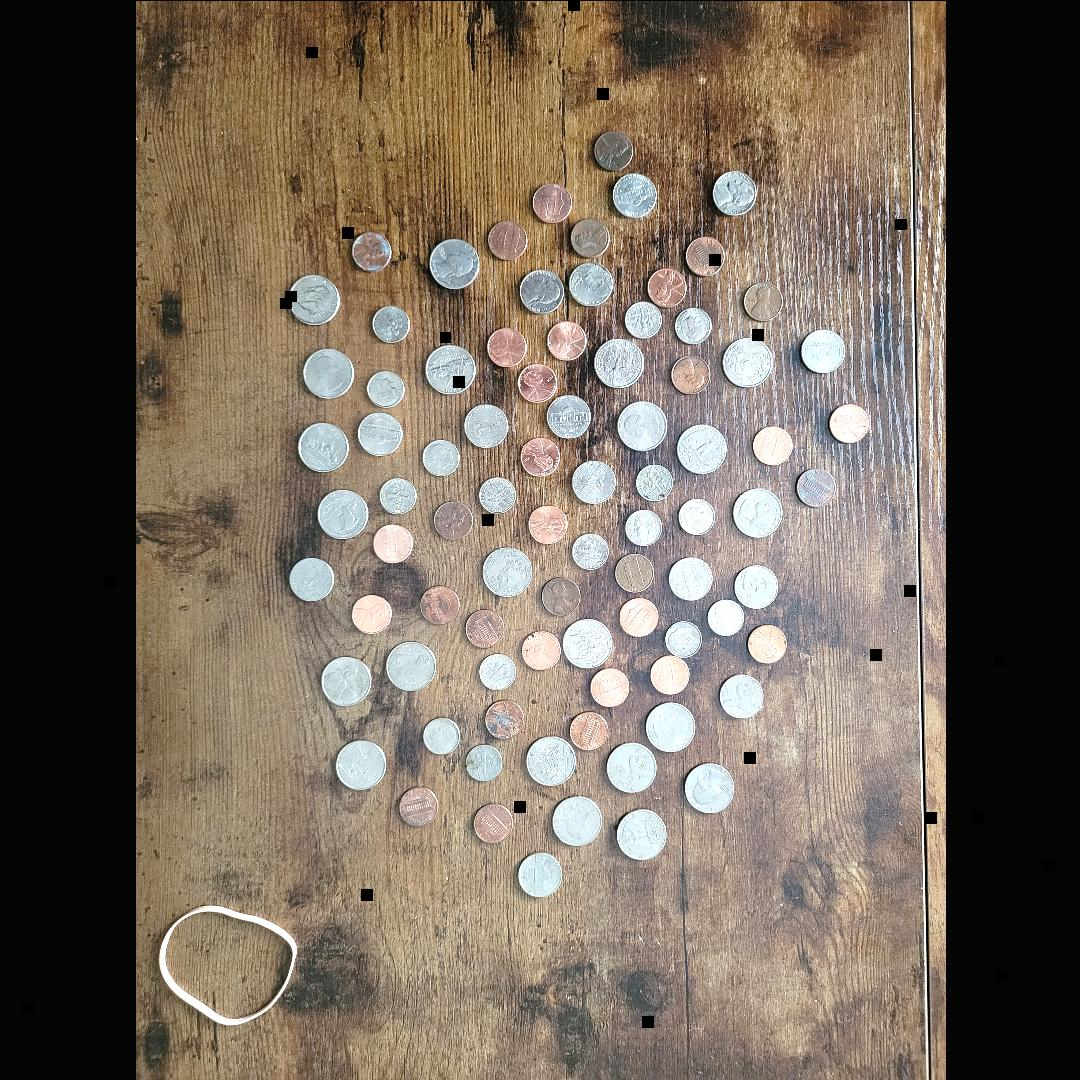Dime: (420, 438, 458, 476), (379, 478, 417, 516), (365, 368, 403, 406), (634, 464, 672, 502), (676, 497, 714, 535), (673, 307, 711, 345), (464, 740, 500, 780), (479, 653, 516, 691), (479, 476, 516, 514), (370, 305, 410, 340), (706, 600, 744, 636), (422, 716, 458, 754), (572, 532, 608, 570), (625, 301, 661, 338), (666, 619, 702, 655), (624, 510, 660, 544)
Nickel: (516, 851, 562, 897), (800, 326, 844, 374), (569, 459, 615, 503), (717, 673, 763, 717), (710, 170, 756, 214), (357, 412, 403, 456), (463, 404, 507, 448), (612, 173, 656, 217), (567, 263, 611, 307), (545, 396, 590, 439), (516, 269, 562, 311), (288, 558, 332, 600), (734, 565, 778, 607), (669, 557, 710, 599)
Penny: (828, 403, 870, 445), (644, 264, 686, 306), (681, 235, 724, 275), (350, 232, 392, 272), (591, 130, 633, 170), (474, 801, 514, 843), (372, 524, 413, 564), (545, 317, 585, 358), (530, 182, 572, 221), (750, 426, 793, 464), (351, 594, 391, 634), (486, 217, 526, 257), (618, 597, 658, 637), (588, 666, 628, 706), (485, 324, 525, 364), (614, 552, 654, 592), (648, 654, 688, 694), (519, 362, 559, 402), (521, 631, 561, 671), (742, 281, 782, 321), (747, 622, 786, 662), (570, 215, 610, 254), (398, 786, 437, 826), (540, 578, 579, 617), (528, 504, 567, 543), (520, 434, 558, 474), (419, 585, 457, 625), (570, 710, 608, 750), (669, 356, 708, 394), (484, 700, 522, 738), (796, 468, 834, 506), (464, 610, 504, 646), (432, 501, 470, 538)
Quarter: (302, 347, 354, 399), (425, 344, 476, 395), (428, 237, 478, 289), (296, 422, 348, 472), (386, 640, 436, 692), (551, 795, 603, 845), (617, 399, 667, 451), (729, 487, 781, 537), (674, 424, 726, 474), (719, 338, 770, 388), (287, 273, 339, 322), (318, 488, 368, 538), (683, 763, 733, 813), (603, 744, 655, 792), (335, 738, 384, 788), (320, 656, 371, 704), (562, 620, 612, 668), (645, 702, 695, 750), (616, 810, 664, 860), (592, 337, 640, 387), (525, 736, 573, 785), (482, 546, 530, 595)
